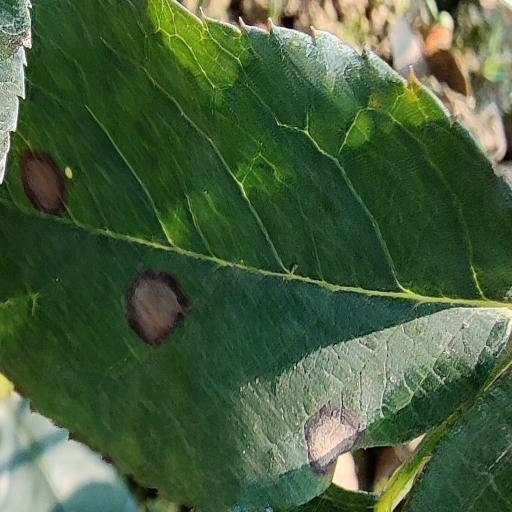black_spot: (0, 0, 512, 511), (330, 257, 330, 258)
